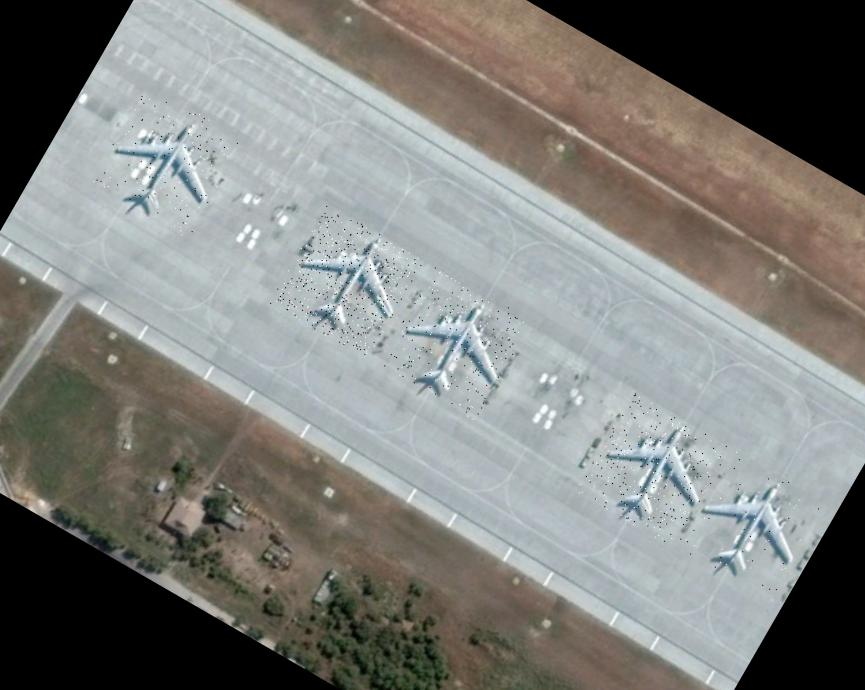A17: (672, 448, 828, 604), (89, 84, 244, 240), (268, 204, 423, 360), (376, 264, 531, 420), (575, 392, 730, 548)
